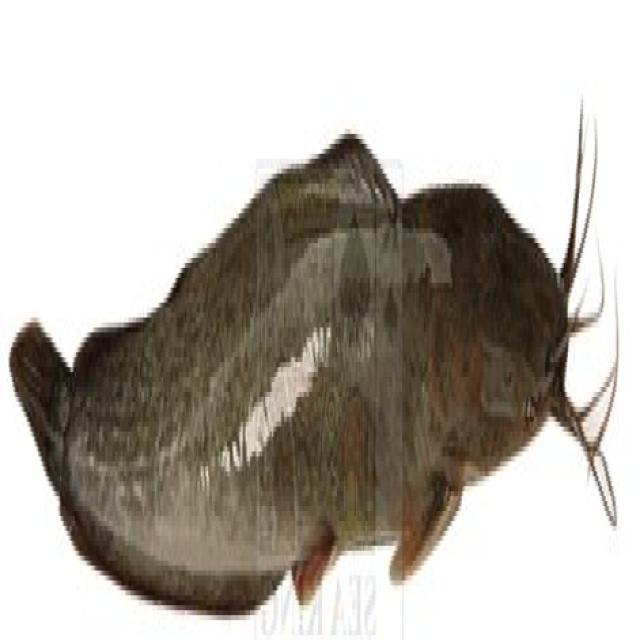Catfish: (5, 50, 640, 637)
